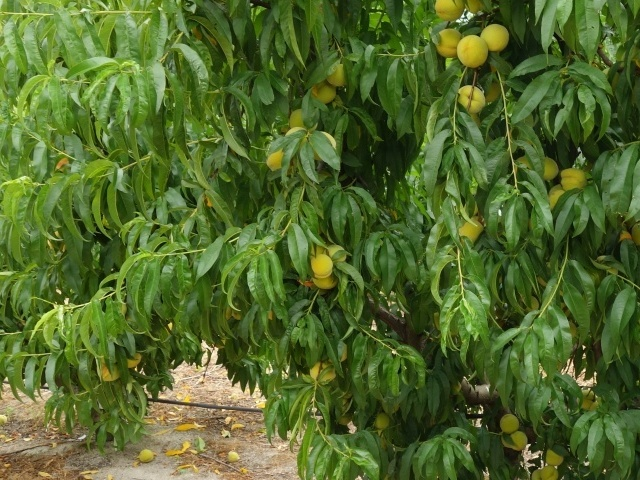peach: (455, 33, 494, 70), (428, 25, 464, 64), (452, 79, 487, 119), (474, 23, 511, 56), (307, 75, 343, 108), (558, 164, 591, 198), (285, 105, 319, 137), (452, 216, 486, 248), (304, 353, 336, 386), (321, 62, 353, 92), (307, 265, 338, 295), (303, 253, 334, 279), (545, 177, 576, 203), (535, 152, 562, 181), (539, 444, 568, 471), (322, 239, 349, 265), (496, 411, 521, 437), (508, 425, 530, 453), (533, 459, 563, 479)
